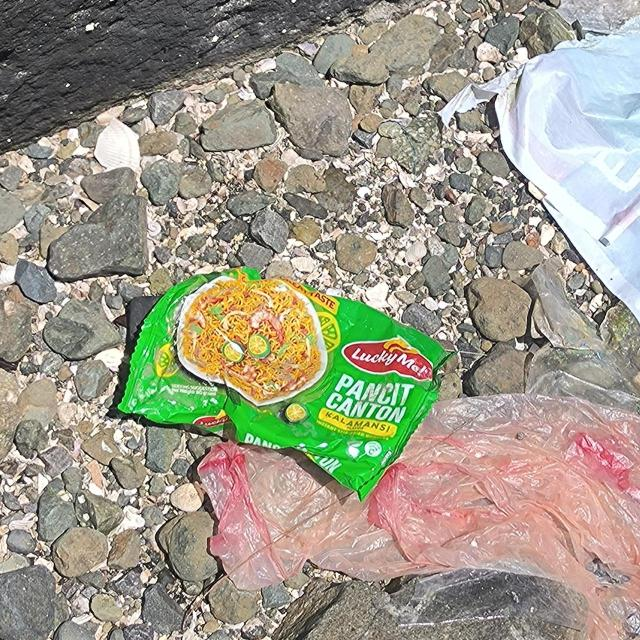plastic_waste: (118, 266, 448, 504)
